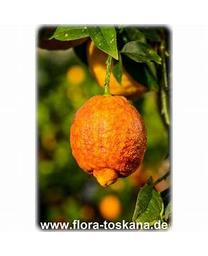lemon: (70, 94, 147, 186)
